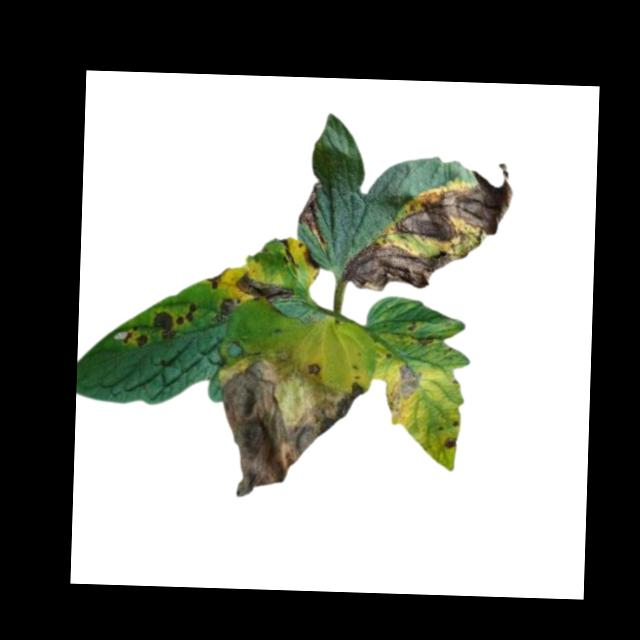Early_blight: (213, 350, 372, 502), (379, 157, 513, 240), (342, 235, 477, 296), (387, 360, 423, 421), (235, 272, 295, 304), (296, 181, 324, 242), (209, 296, 239, 323), (151, 310, 176, 339), (296, 241, 320, 271), (121, 327, 150, 346), (203, 267, 228, 289), (177, 302, 198, 326), (413, 331, 437, 347), (440, 433, 457, 451)
